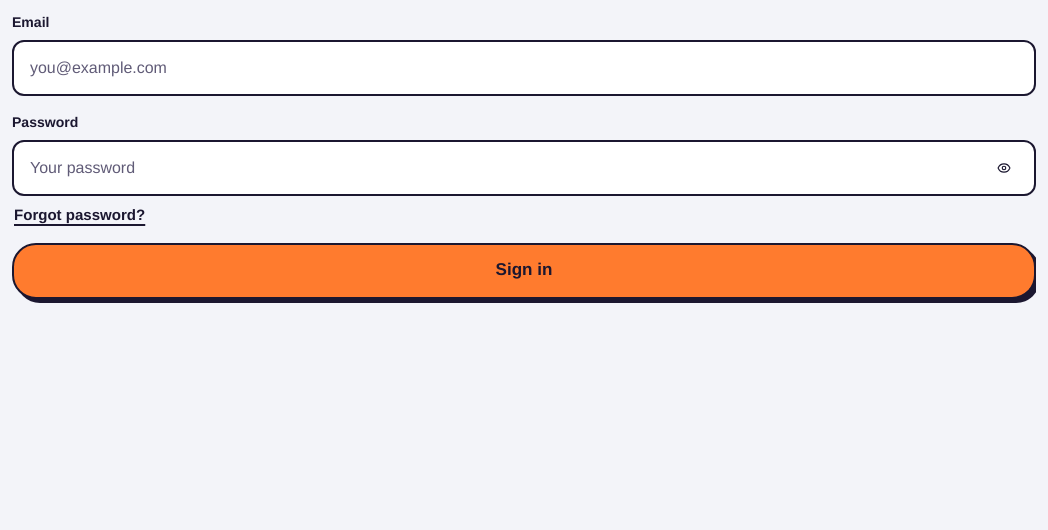
LoginForm › announces a sign-in error once
Type "ada@example.com" into the field labelled "Email".
click(524, 68); type("ada@example.com")  # box [30,42,1018,94]
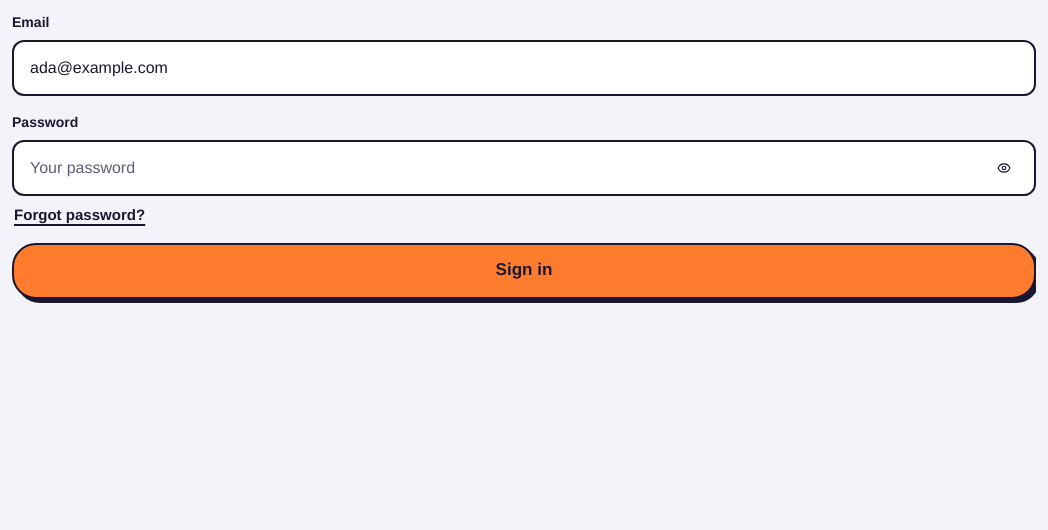
Type "wrong" into the password field labelled "Password".
click(504, 168); type("wrong")  # box [30,142,978,194]
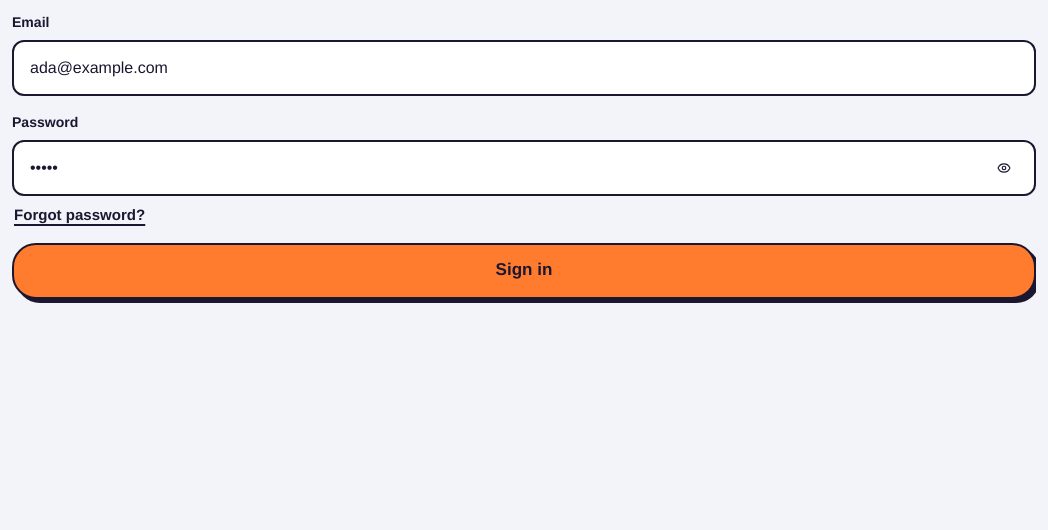
Click the button "Sign in".
click(524, 270)  # box [12,242,1036,298]
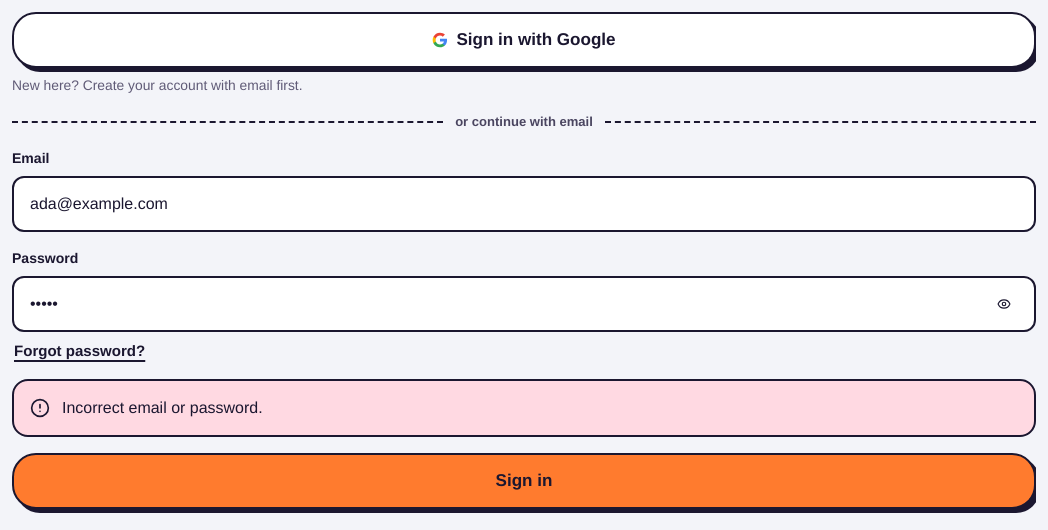
expect the message reads "Incorrect email or password.": met, box [62,398,263,418]
expect the number of messages is 1: met, box [12,378,1036,437]
